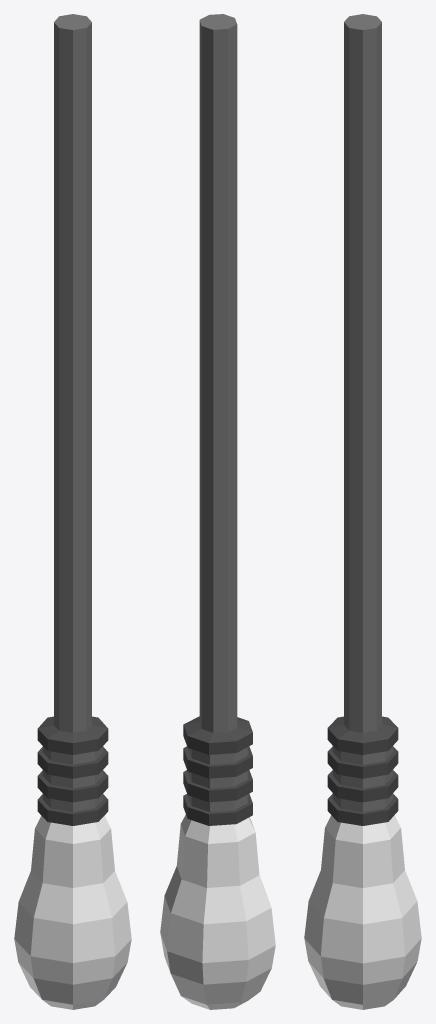
Rendered from LightbulbModel.fbx.
3 views of the same model, side by side, from view 1: azimuth 90°, elevation 25°; view 2: azimuth 210°, elevation 25°; view 3: azimuth 270°, elevation 25° (orthographic).
Visible parts, largest first — view 1: LightbulbModel; view 2: LightbulbModel; view 3: LightbulbModel.
Boxes of the visible parts, x1,y1,x2,y2 form: LightbulbModel: (14,14,131,1009); LightbulbModel: (160,14,275,1009); LightbulbModel: (304,14,421,1009).
Size of the model in its own units: 14.72 by 135 by 14.72.
